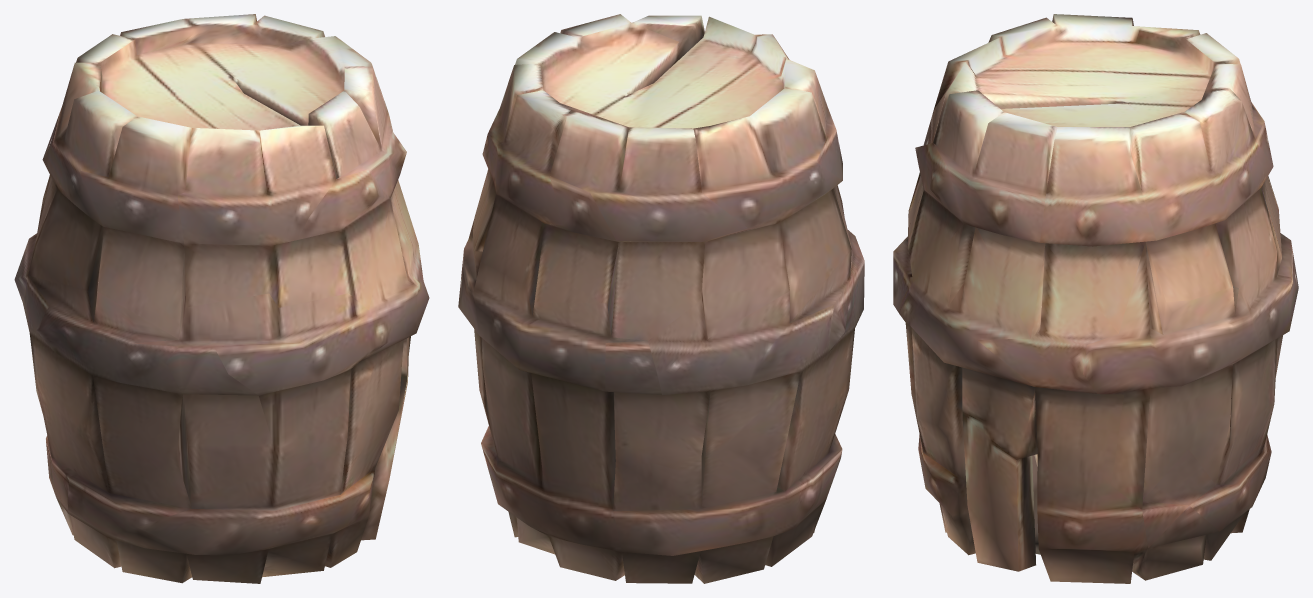
File: container_barrel.glb
The picture shows the model from 3 angles, left to right: view 1: azimuth 30°, elevation 25°; view 2: azimuth 150°, elevation 25°; view 3: azimuth 270°, elevation 25°; orthographic projection.
Parts seen in each view (by area): view 1: container_barrel; view 2: container_barrel; view 3: container_barrel.
Part boxes in pixels (x1,y1,x2,y2): container_barrel: [14, 14, 429, 583]; container_barrel: [458, 14, 864, 583]; container_barrel: [893, 14, 1298, 583].
Size of the model in its own units: 0.7711 by 0.9 by 0.7377.
1 material, 1 textured.
